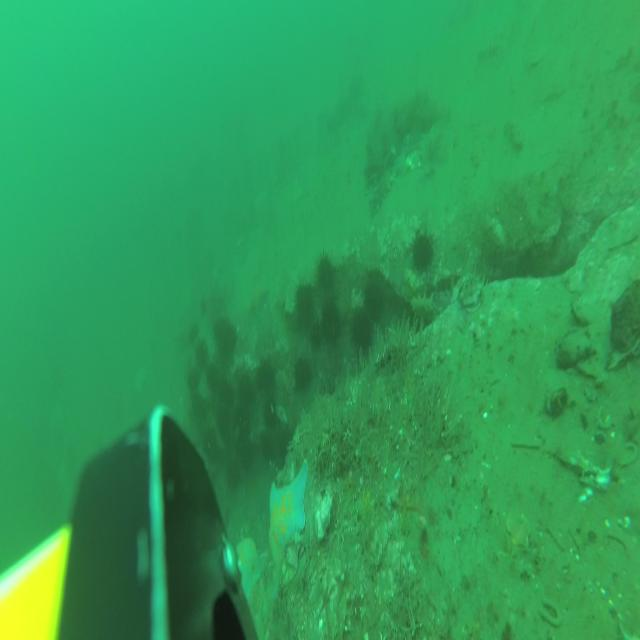echinus: (409, 230, 438, 280), (349, 307, 372, 353), (315, 254, 337, 298), (321, 301, 342, 346), (295, 280, 315, 327), (293, 357, 314, 398), (254, 358, 276, 397), (276, 427, 296, 468), (365, 281, 384, 321), (192, 392, 208, 429), (238, 378, 254, 412), (225, 461, 242, 491), (203, 430, 220, 460), (203, 360, 218, 393), (260, 431, 275, 464), (238, 436, 254, 466), (215, 410, 230, 441), (224, 326, 238, 359), (308, 321, 324, 348), (222, 382, 236, 412), (264, 399, 278, 428), (186, 369, 202, 394), (215, 320, 227, 348), (238, 417, 250, 442), (187, 323, 199, 347), (198, 340, 208, 368)
holothurian: (370, 166, 396, 217), (412, 294, 446, 328), (477, 39, 505, 62), (506, 119, 524, 152), (469, 148, 483, 171)
scallop: (506, 508, 532, 549), (407, 148, 422, 173), (237, 484, 248, 503)
starfish: (268, 458, 308, 570), (236, 538, 266, 602), (391, 482, 421, 535), (247, 285, 268, 321), (362, 486, 374, 512)
